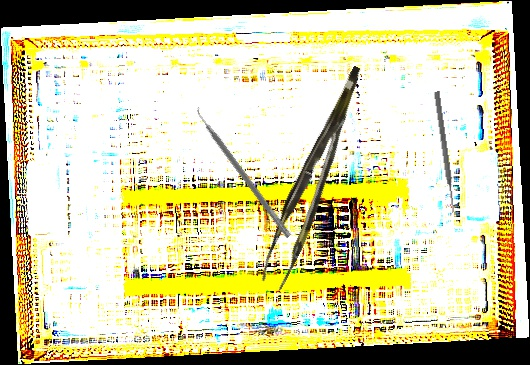Pusher: (432, 91, 458, 213)
Spatula Surgical: (191, 104, 297, 239)
Tissue Forceps: (247, 65, 388, 291)
